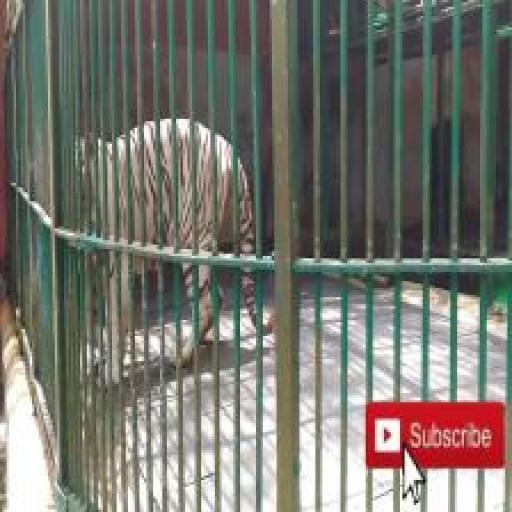Tiger: (176, 119, 193, 249), (195, 123, 211, 251), (105, 254, 120, 384), (160, 119, 175, 246), (143, 121, 158, 244), (98, 140, 115, 236), (130, 128, 143, 242), (238, 160, 253, 254), (217, 135, 232, 227), (198, 265, 213, 342), (117, 135, 128, 239), (120, 254, 129, 354), (243, 270, 256, 324), (80, 140, 87, 214), (89, 155, 96, 228), (182, 331, 194, 365), (183, 263, 192, 301), (264, 315, 275, 333)
